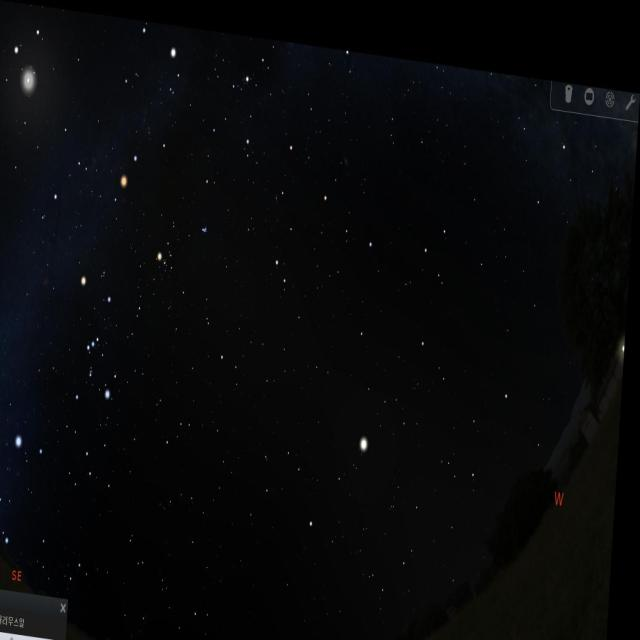canis_major: (1, 422, 52, 546)
gemini: (0, 0, 106, 180)
moon: (12, 46, 45, 106)
orion: (71, 271, 127, 398)
pleiades: (199, 210, 215, 237)
taurus: (152, 192, 216, 292)
